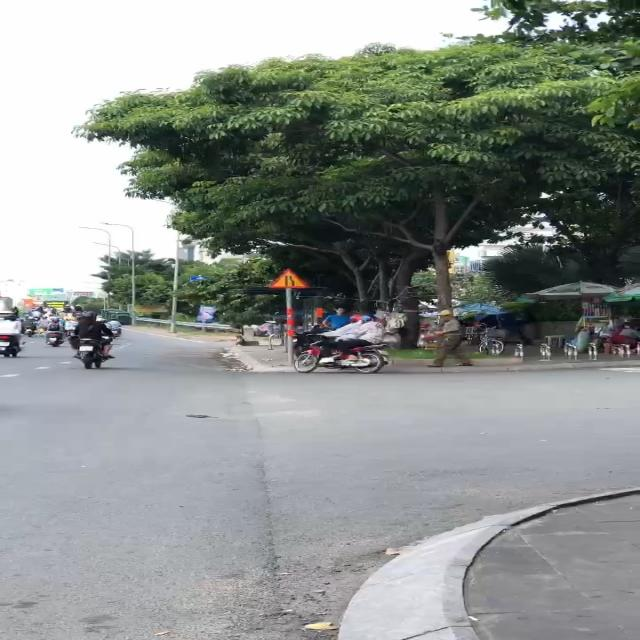Bien bao duong bi thu hep: (266, 266, 312, 292)
